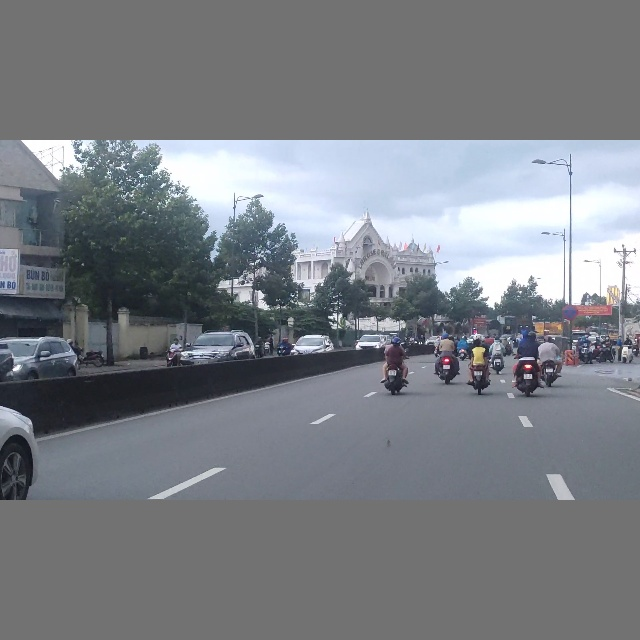P.130: (562, 305, 578, 320)
